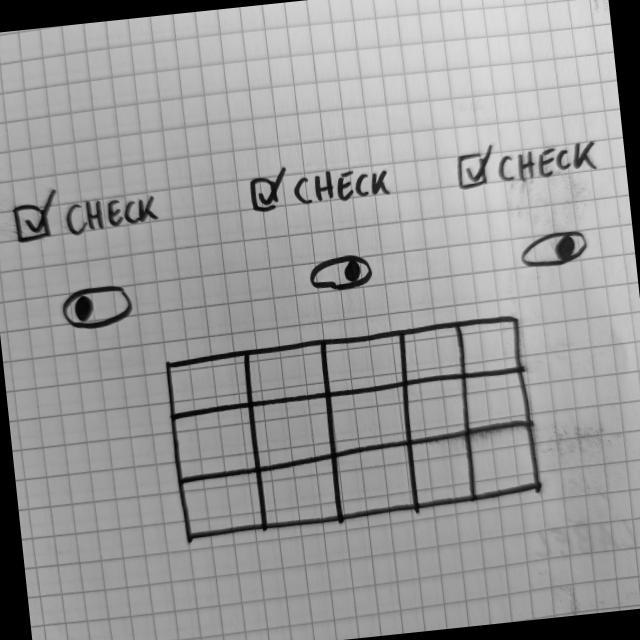checkbox: (8, 175, 164, 248), (247, 154, 396, 218), (453, 131, 602, 191)
table: (161, 312, 544, 544)
toggle: (58, 279, 136, 334), (514, 227, 592, 273), (304, 250, 376, 295)
